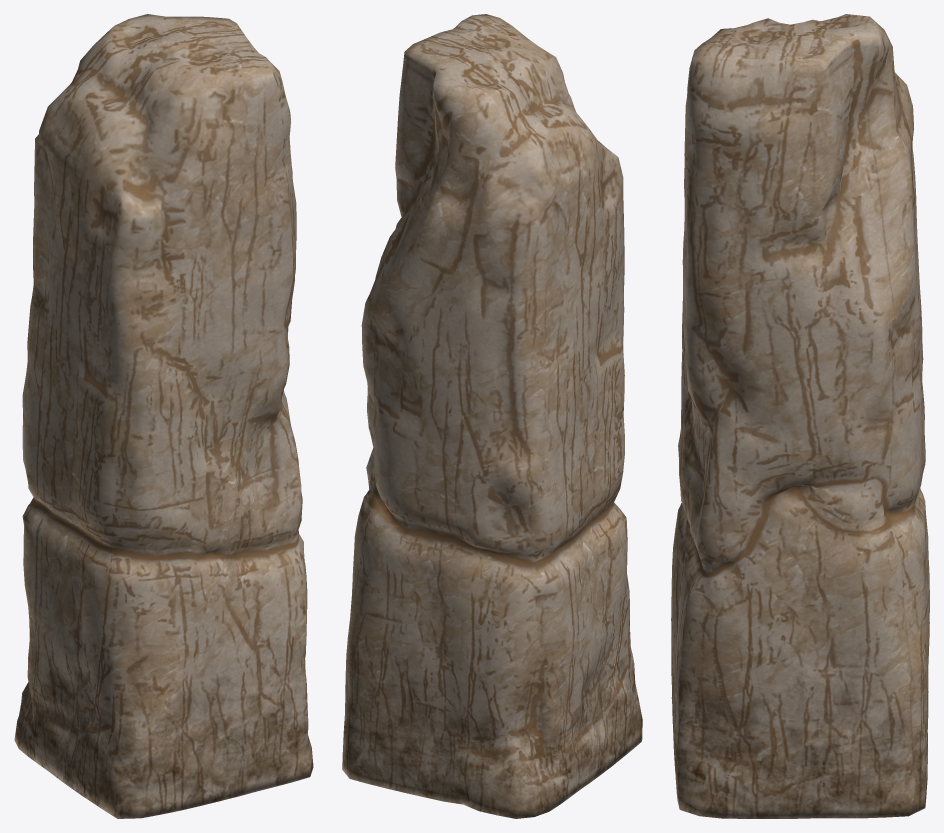
Rendered from stone_totem.glb.
3 views of the same model, side by side, from view 1: azimuth 30°, elevation 25°; view 2: azimuth 150°, elevation 25°; view 3: azimuth 270°, elevation 25° (orthographic). The views are drawn at different scales.
Visible parts, largest first — view 1: Object_2; view 2: Object_2; view 3: Object_2.
Boxes of the visible parts, box(x1,y1,x2,y2) form: Object_2: box(14, 14, 313, 818); Object_2: box(342, 14, 642, 818); Object_2: box(671, 14, 929, 818).
Size of the model in its own units: 2.08 by 6.63 by 2.08.
1 material, 1 textured.
